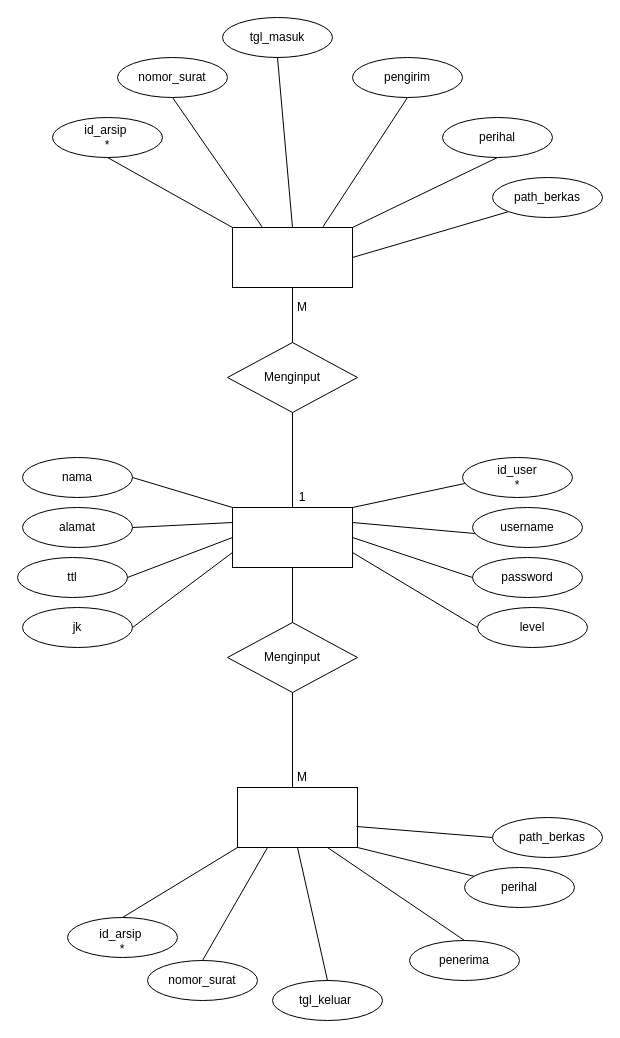
Some shapes in this 620 by 1038 pixel diagram are drawn without their labels. The shapes that lost their labels are listed below. From the top down, each one's box as (x1, y1, x2, y2) in pixels, then its label:
(232, 226, 352, 288): Surat Masuk
(232, 506, 352, 568): User
(236, 786, 358, 848): Surat Keluar
